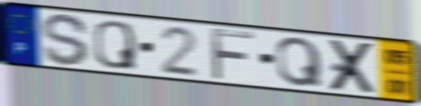2: (157, 24, 200, 78)
F: (208, 26, 259, 83)
Q: (274, 36, 326, 89), (92, 18, 139, 72)
S: (40, 11, 91, 68)
X: (327, 38, 379, 96)
